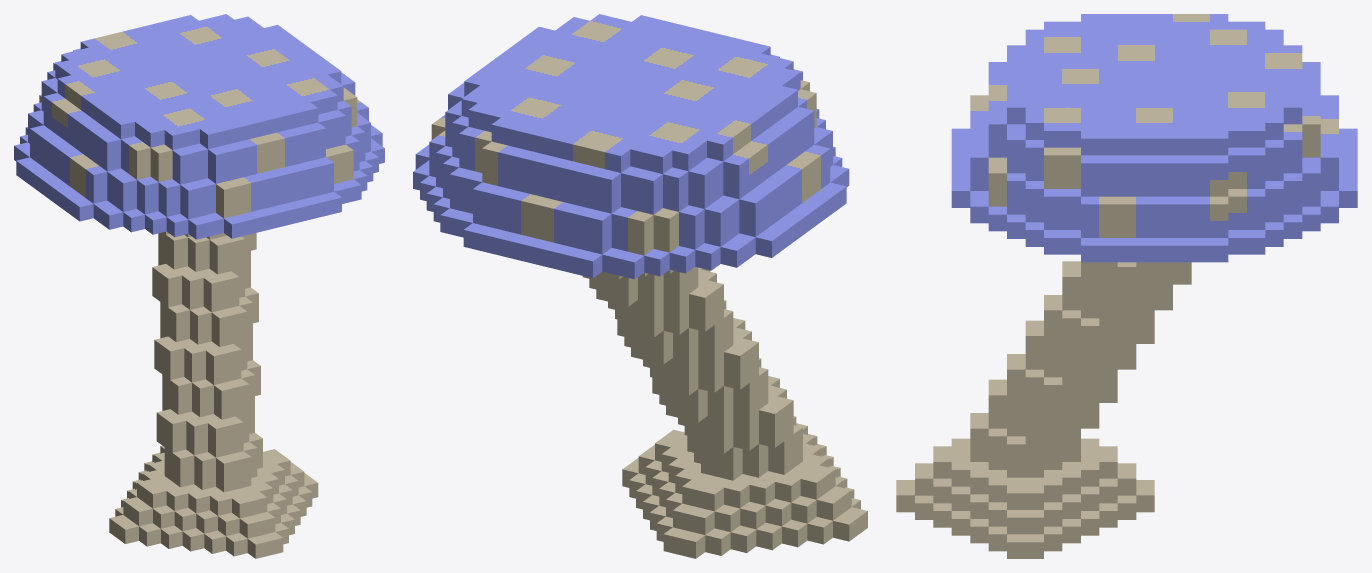
File: MushWood1.dae
3 renders of one model, left to right at view 1: azimuth 30°, elevation 25°; view 2: azimuth 150°, elevation 25°; view 3: azimuth 270°, elevation 25°, orthographic. The views are drawn at different scales.
Visible parts, largest first — view 1: Node-local; view 2: Node-local; view 3: Node-local.
Boxes of the visible parts, x1,y1,x2,y2 form: Node-local: (14,14,384,558); Node-local: (413,14,867,558); Node-local: (896,14,1357,558).
Bounding box in the file's own units: 22 × 27 × 25.
